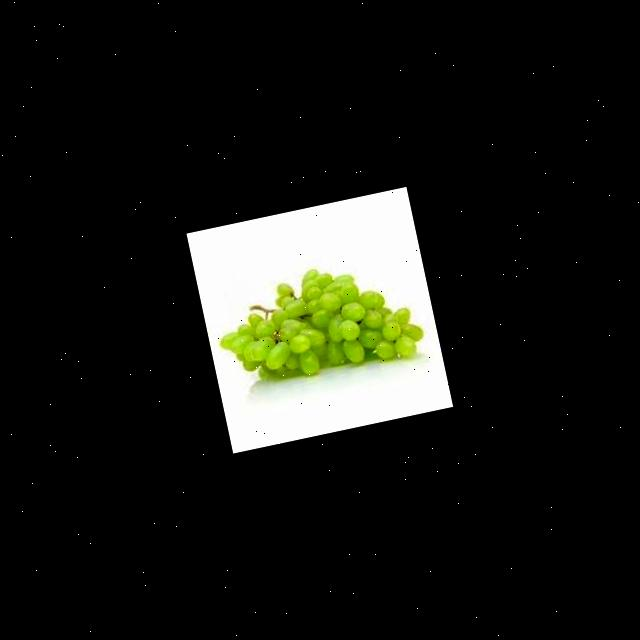grape: (208, 248, 428, 395)
